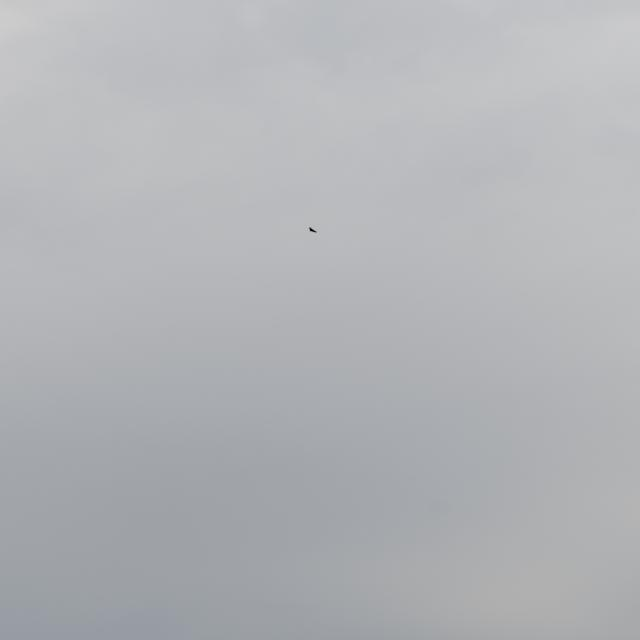Airaplan: (309, 227, 317, 233)
